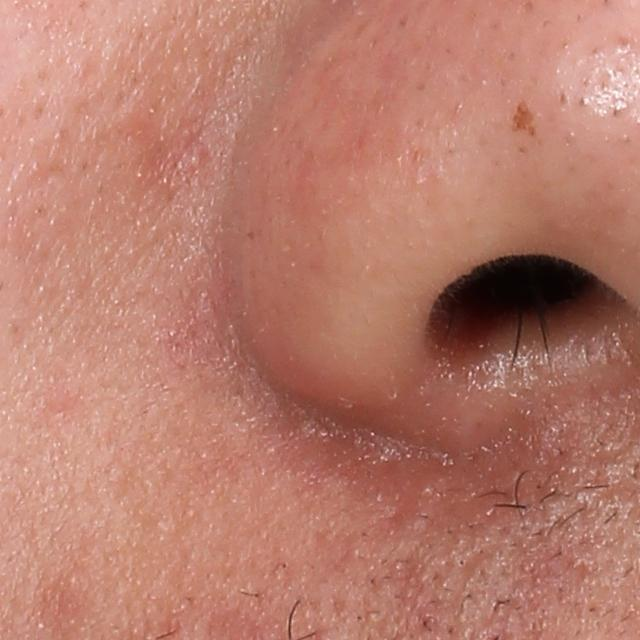nevus: (510, 105, 535, 130)
